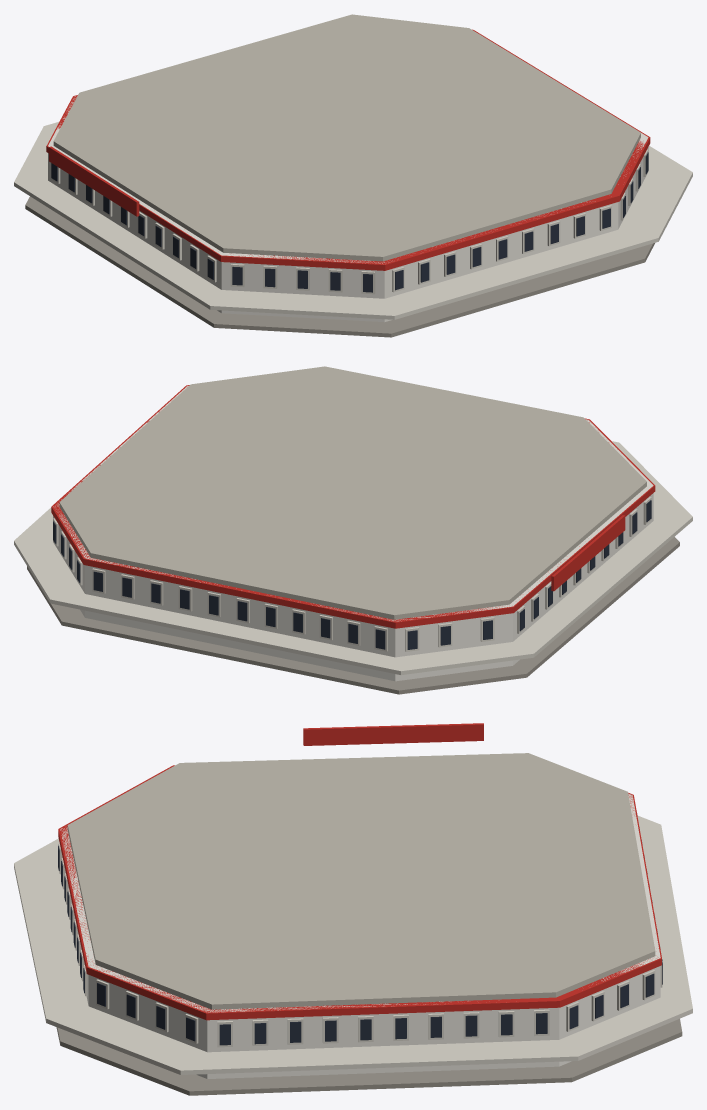
The model's file is kadamba.glb.
3 renders of one model, top to bottom at view 1: azimuth 30°, elevation 25°; view 2: azimuth 150°, elevation 25°; view 3: azimuth 270°, elevation 25°, orthographic. The views are drawn at different scales.
Visible parts, largest first — view 1: p.005, p.004, p.001, p, p.003, Cube.112; view 2: p.005, p.004, p.001, p, p.003, Cube.112; view 3: p.005, p.004, p.001, p, p.003, Cube.112.
Boxes of the visible parts, bbox=[...] form: p.005: bbox=[53, 14, 640, 261]; p.004: bbox=[14, 122, 692, 319]; p.001: bbox=[48, 95, 648, 322]; p: bbox=[25, 196, 654, 337]; p.003: bbox=[46, 29, 650, 270]; Cube.112: bbox=[49, 146, 139, 216]; p.005: bbox=[59, 366, 646, 619]; p.004: bbox=[14, 441, 692, 675]; p.001: bbox=[53, 386, 653, 681]; p: bbox=[27, 537, 679, 694]; p.003: bbox=[51, 385, 655, 628]; Cube.112: bbox=[551, 515, 625, 591]; p.005: bbox=[67, 753, 655, 1009]; p.004: bbox=[14, 816, 692, 1074]; p.001: bbox=[60, 793, 660, 1078]; p: bbox=[56, 1018, 682, 1095]; p.003: bbox=[58, 765, 661, 1020]; Cube.112: bbox=[303, 723, 483, 745].
Bounding box in the file's own units: 83.65 × 12.4 × 82.6.
